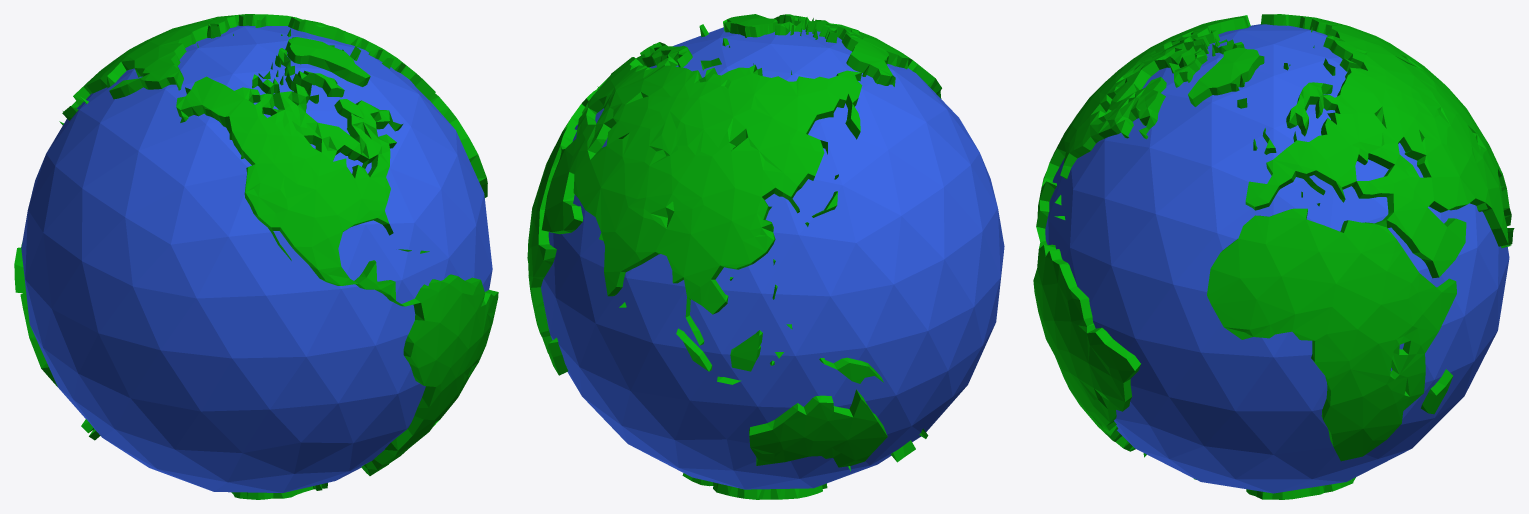
File: LowPolyEarth.glb
The picture shows the model from 3 angles, left to right: view 1: azimuth 30°, elevation 25°; view 2: azimuth 150°, elevation 25°; view 3: azimuth 270°, elevation 25°; orthographic projection.
Parts seen in each view (by area): view 1: Ocean, Earth; view 2: Ocean, Earth; view 3: Ocean, Earth.
Part boxes in pixels (bbox=[...]): Ocean: bbox=[21, 25, 492, 492]; Earth: bbox=[14, 14, 498, 499]; Ocean: bbox=[541, 27, 1004, 489]; Earth: bbox=[527, 14, 941, 499]; Ocean: bbox=[1045, 24, 1509, 493]; Earth: bbox=[1033, 14, 1514, 499].
Size of the model in its own units: 2.1 by 2.14 by 2.12.
